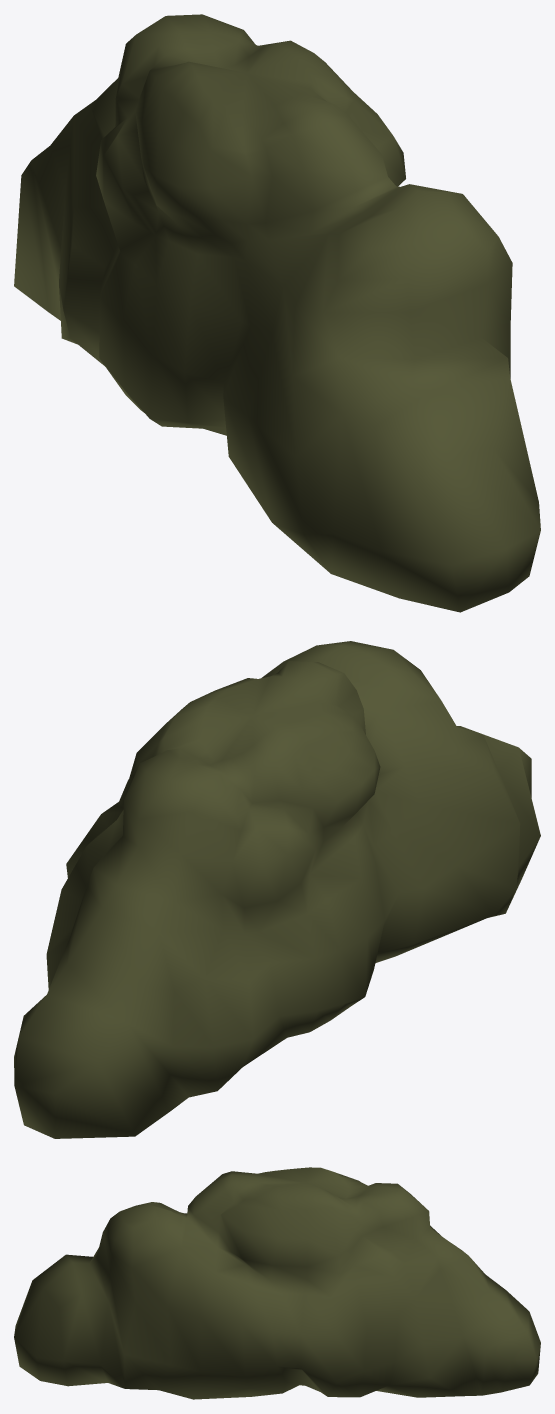
File: arbusto_G02.fbx
3 views of the same model, one above another, from view 1: azimuth 30°, elevation 25°; view 2: azimuth 150°, elevation 25°; view 3: azimuth 270°, elevation 25° (orthographic). The views are drawn at different scales.
Visible parts, largest first — view 1: arbusto_G_2; view 2: arbusto_G_2; view 3: arbusto_G_2.
Boxes of the visible parts, x1,y1,x2,y2 form: arbusto_G_2: (14,14,540,612); arbusto_G_2: (14,641,540,1138); arbusto_G_2: (14,1167,540,1399).
Size of the model in its own units: 650 by 693 by 1688.
